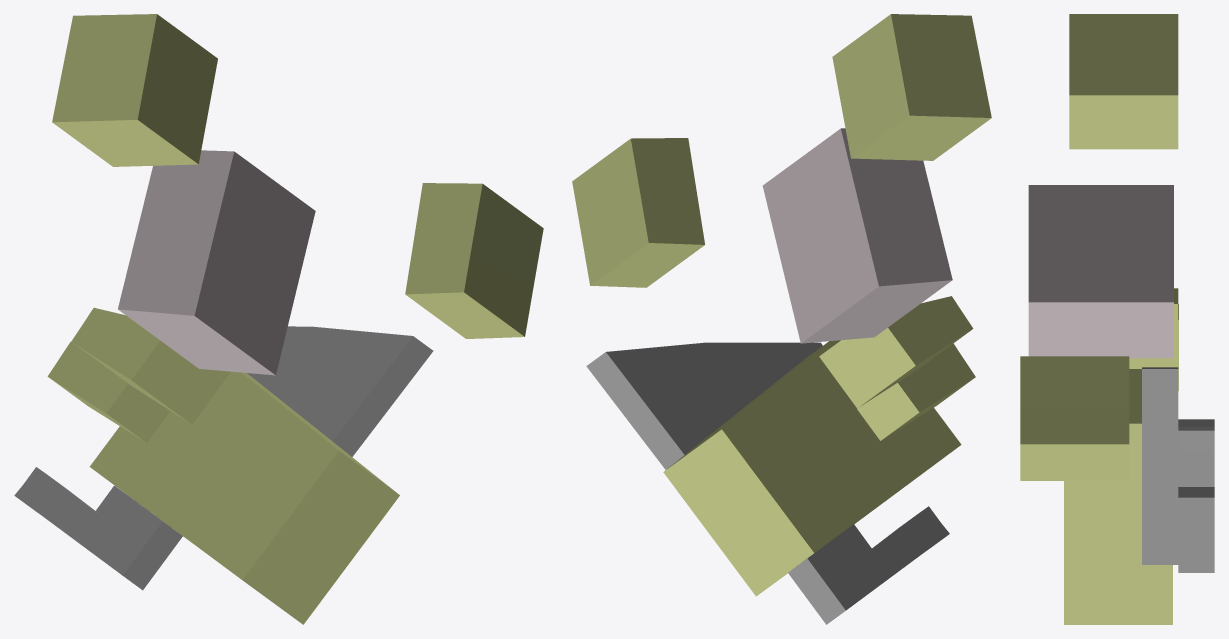
3 views of the same model, side by side, from view 1: azimuth 30°, elevation 25°; view 2: azimuth 150°, elevation 25°; view 3: azimuth 270°, elevation 25° (orthographic). The views are drawn at different scales.
Parts seen in each view (by area): view 1: 0_1_2_0_1_3_0_2_0; view 2: 0_1_2_0_1_3_0_2_0; view 3: 0_1_2_0_1_3_0_2_0.
Part boxes in pixels (x1,y1,x2,y2): 0_1_2_0_1_3_0_2_0: (14,14,543,624); 0_1_2_0_1_3_0_2_0: (572,14,991,624); 0_1_2_0_1_3_0_2_0: (1020,14,1214,624).
Bounding box in the file's own units: 35.82 × 49.05 × 16.03.
